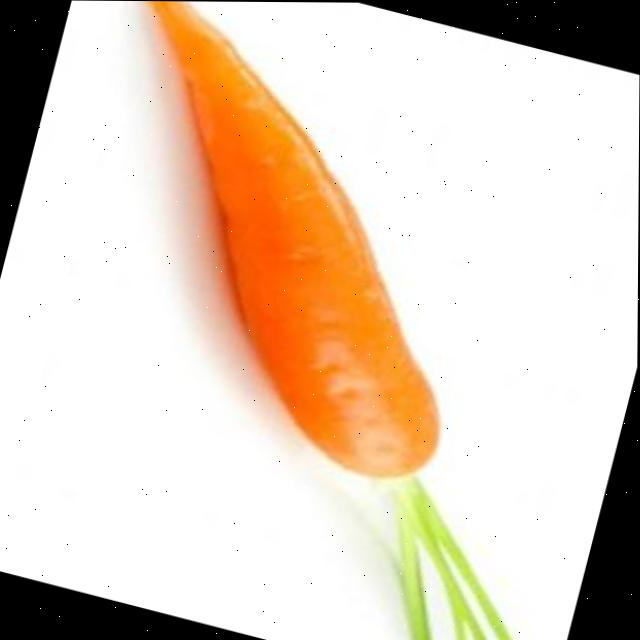Wet: (0, 0, 573, 516)
